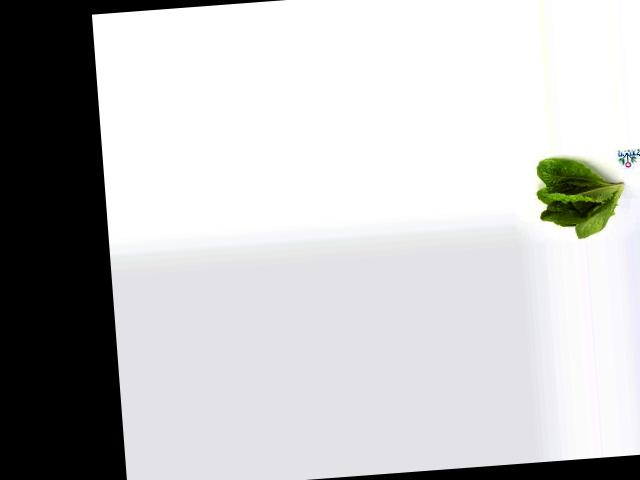lettuce: (531, 154, 628, 243)
